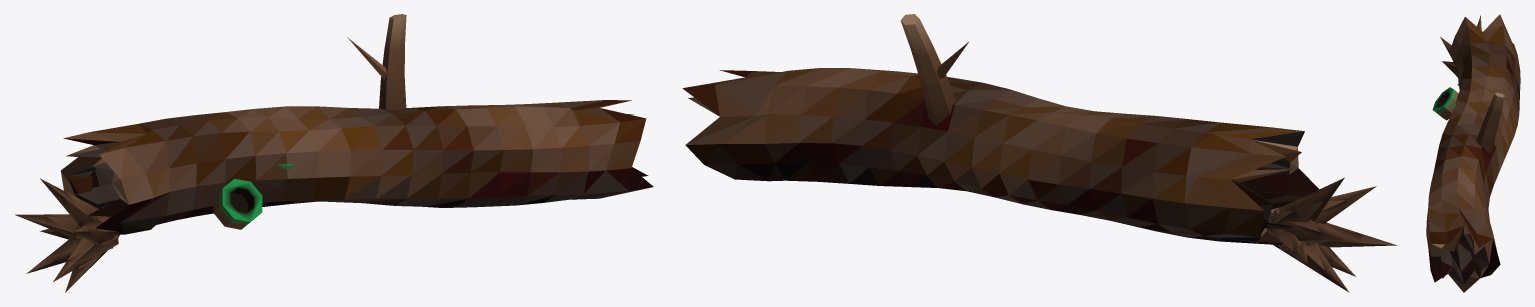
Rendered from pohon_tumbang_uprooted_rainforest_982966.glb.
The picture shows the model from 3 angles, left to right: view 1: azimuth 30°, elevation 25°; view 2: azimuth 150°, elevation 25°; view 3: azimuth 270°, elevation 25°; orthographic projection. The views are drawn at different scales.
Visible parts, largest first — view 1: Tunggul_Akar_Tumbang; view 2: Tunggul_Akar_Tumbang; view 3: Tunggul_Akar_Tumbang.
Boxes of the visible parts, box(x1,y1,x2,y2) form: Tunggul_Akar_Tumbang: box(15, 14, 653, 292); Tunggul_Akar_Tumbang: box(682, 14, 1397, 292); Tunggul_Akar_Tumbang: box(1426, 14, 1520, 292).
Bounding box in the file's own units: 7.13 × 2.26 × 1.45.
